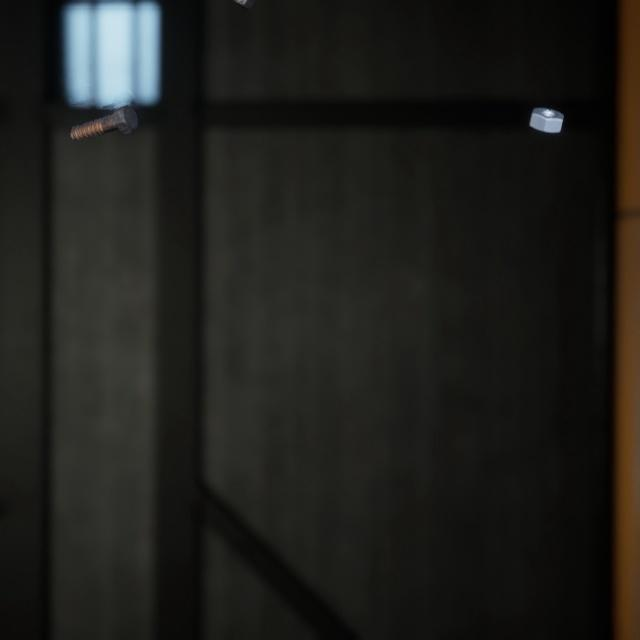bolt: (65, 87, 141, 132)
nut: (524, 91, 568, 125)
